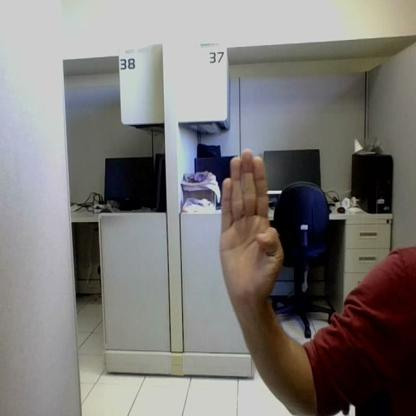B: (219, 150, 283, 302)
